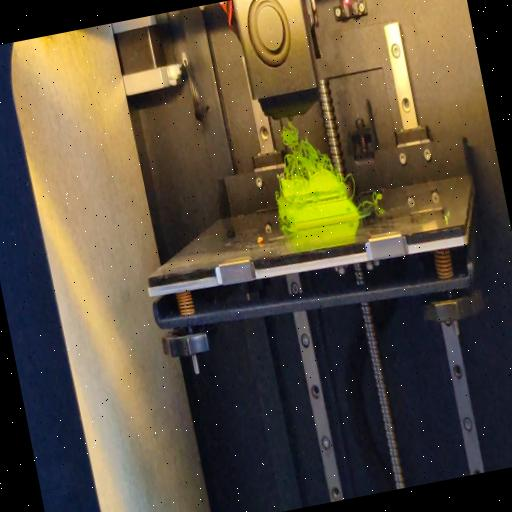spaghetti: (266, 110, 336, 188), (356, 188, 386, 210), (344, 173, 359, 198), (278, 220, 292, 232)
